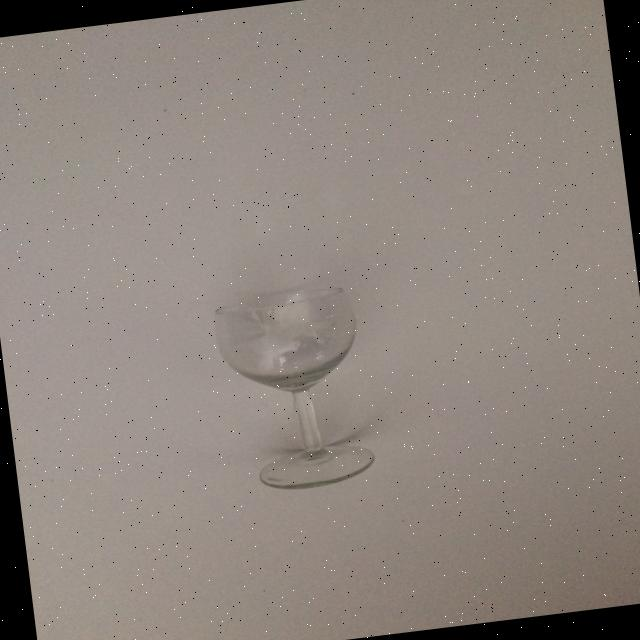glass: (210, 280, 378, 497)
